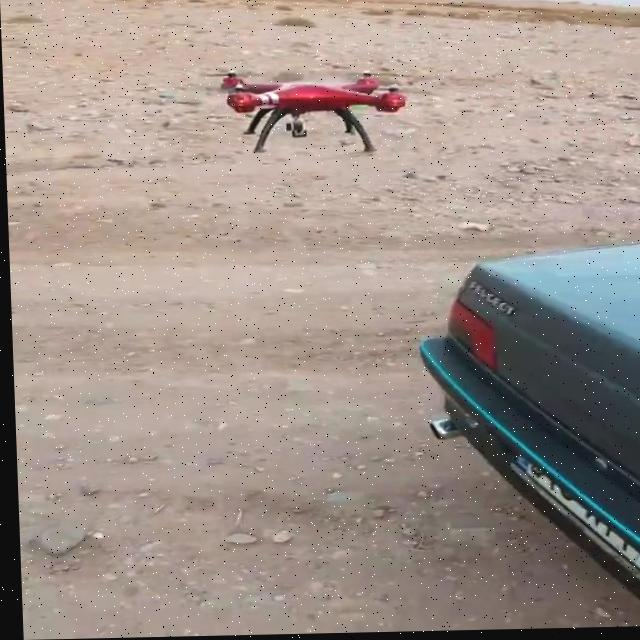drone: (207, 66, 420, 163)
